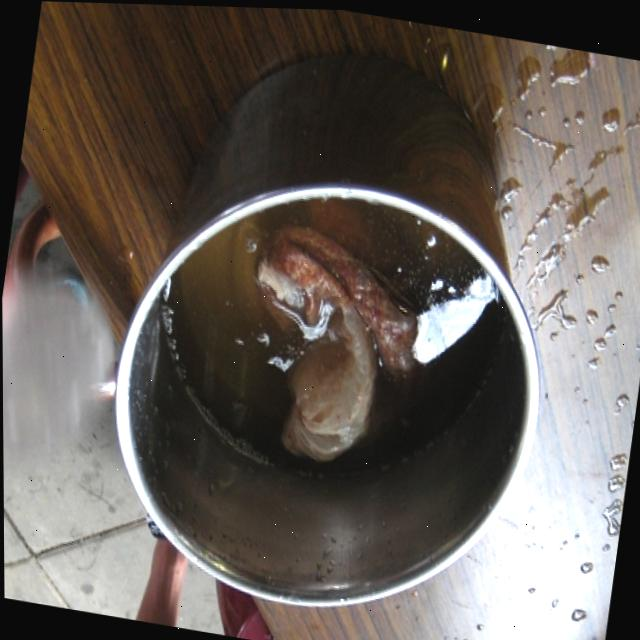蛋糕甜品: (83, 123, 572, 638)
